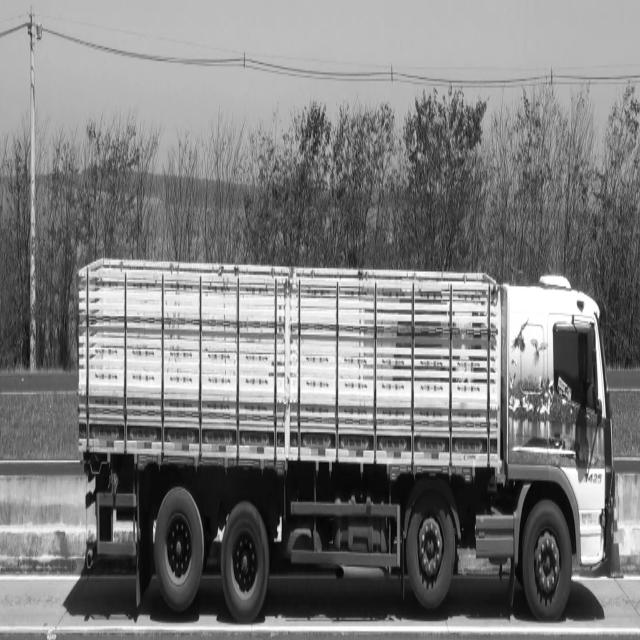Pole: (29, 6, 36, 373)
Truck: (77, 258, 614, 622)
